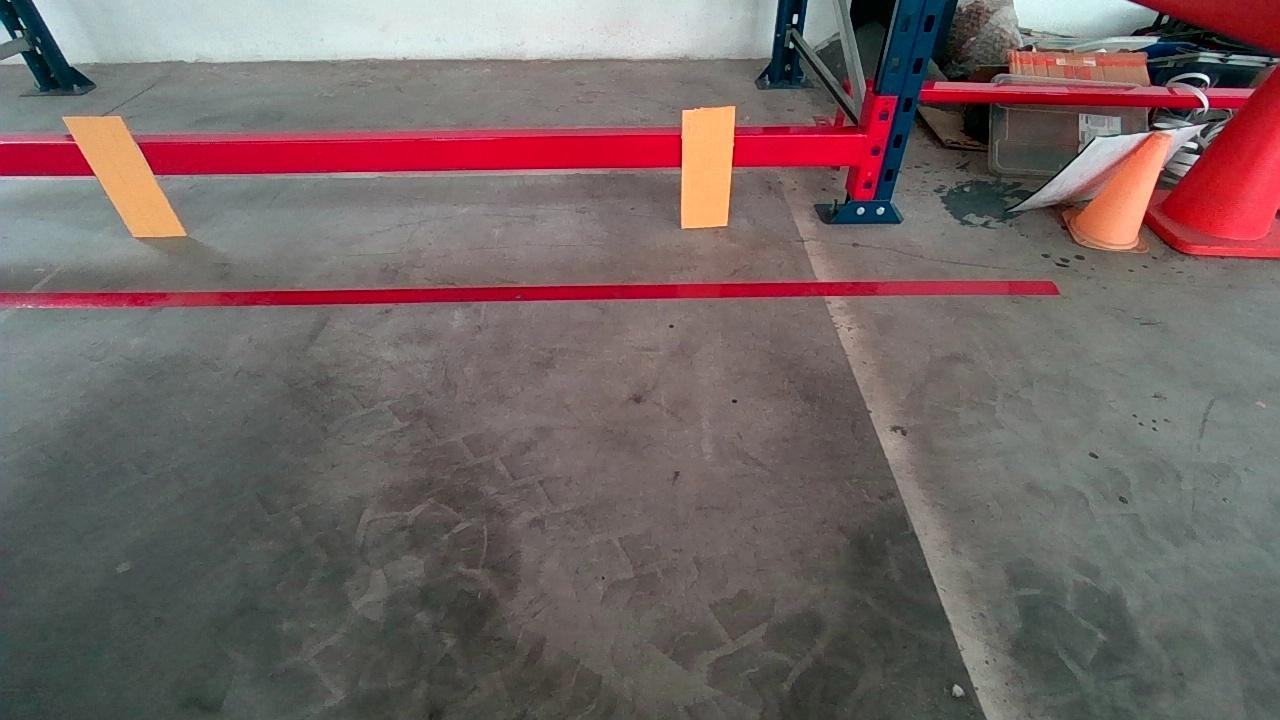h_rack: (11, 132, 868, 178)
orange_strip: (63, 116, 186, 234), (681, 107, 735, 227)
red_line: (9, 276, 1053, 312)
